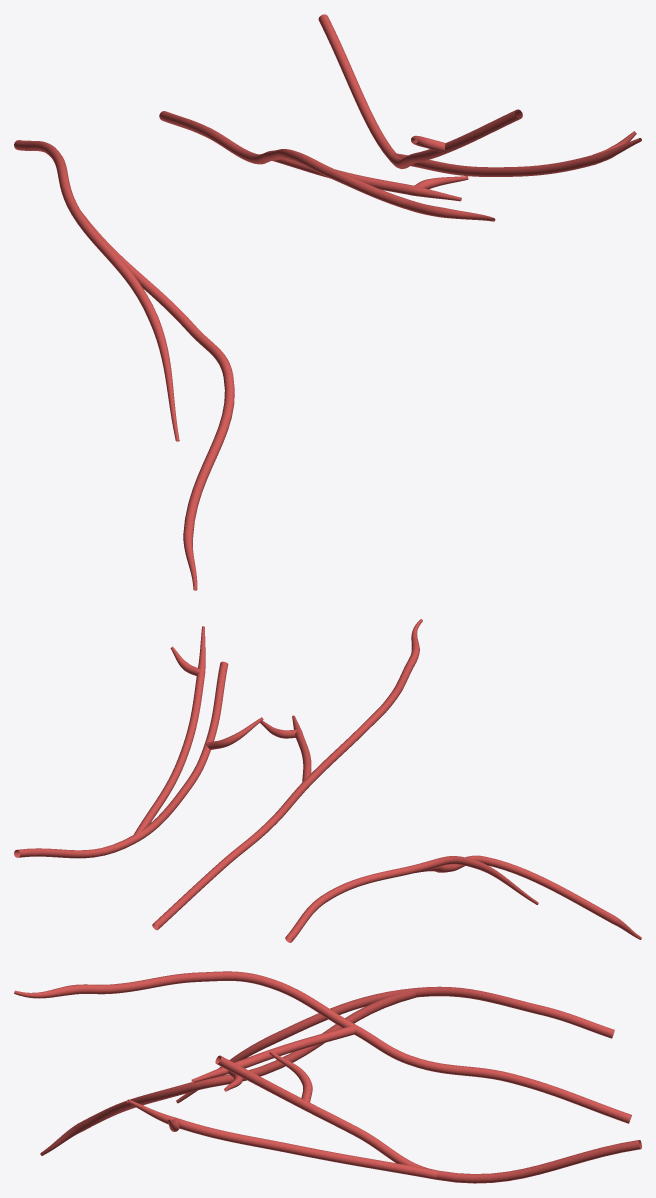
3 views of the same model, one above another, from view 1: azimuth 30°, elevation 25°; view 2: azimuth 150°, elevation 25°; view 3: azimuth 270°, elevation 25° (orthographic). The views are drawn at different scales.
Visible parts, largest first — view 1: 右侧远侧外侧豆纹动脉; view 2: 右侧远侧外侧豆纹动脉; view 3: 右侧远侧外侧豆纹动脉.
Boxes of the visible parts, x1,y1,x2,y2 form: 右侧远侧外侧豆纹动脉: [14, 14, 641, 590]; 右侧远侧外侧豆纹动脉: [14, 619, 641, 942]; 右侧远侧外侧豆纹动脉: [14, 971, 641, 1183].
Bounding box in the file's own units: 0.0171 × 0.0101 × 0.0194.
